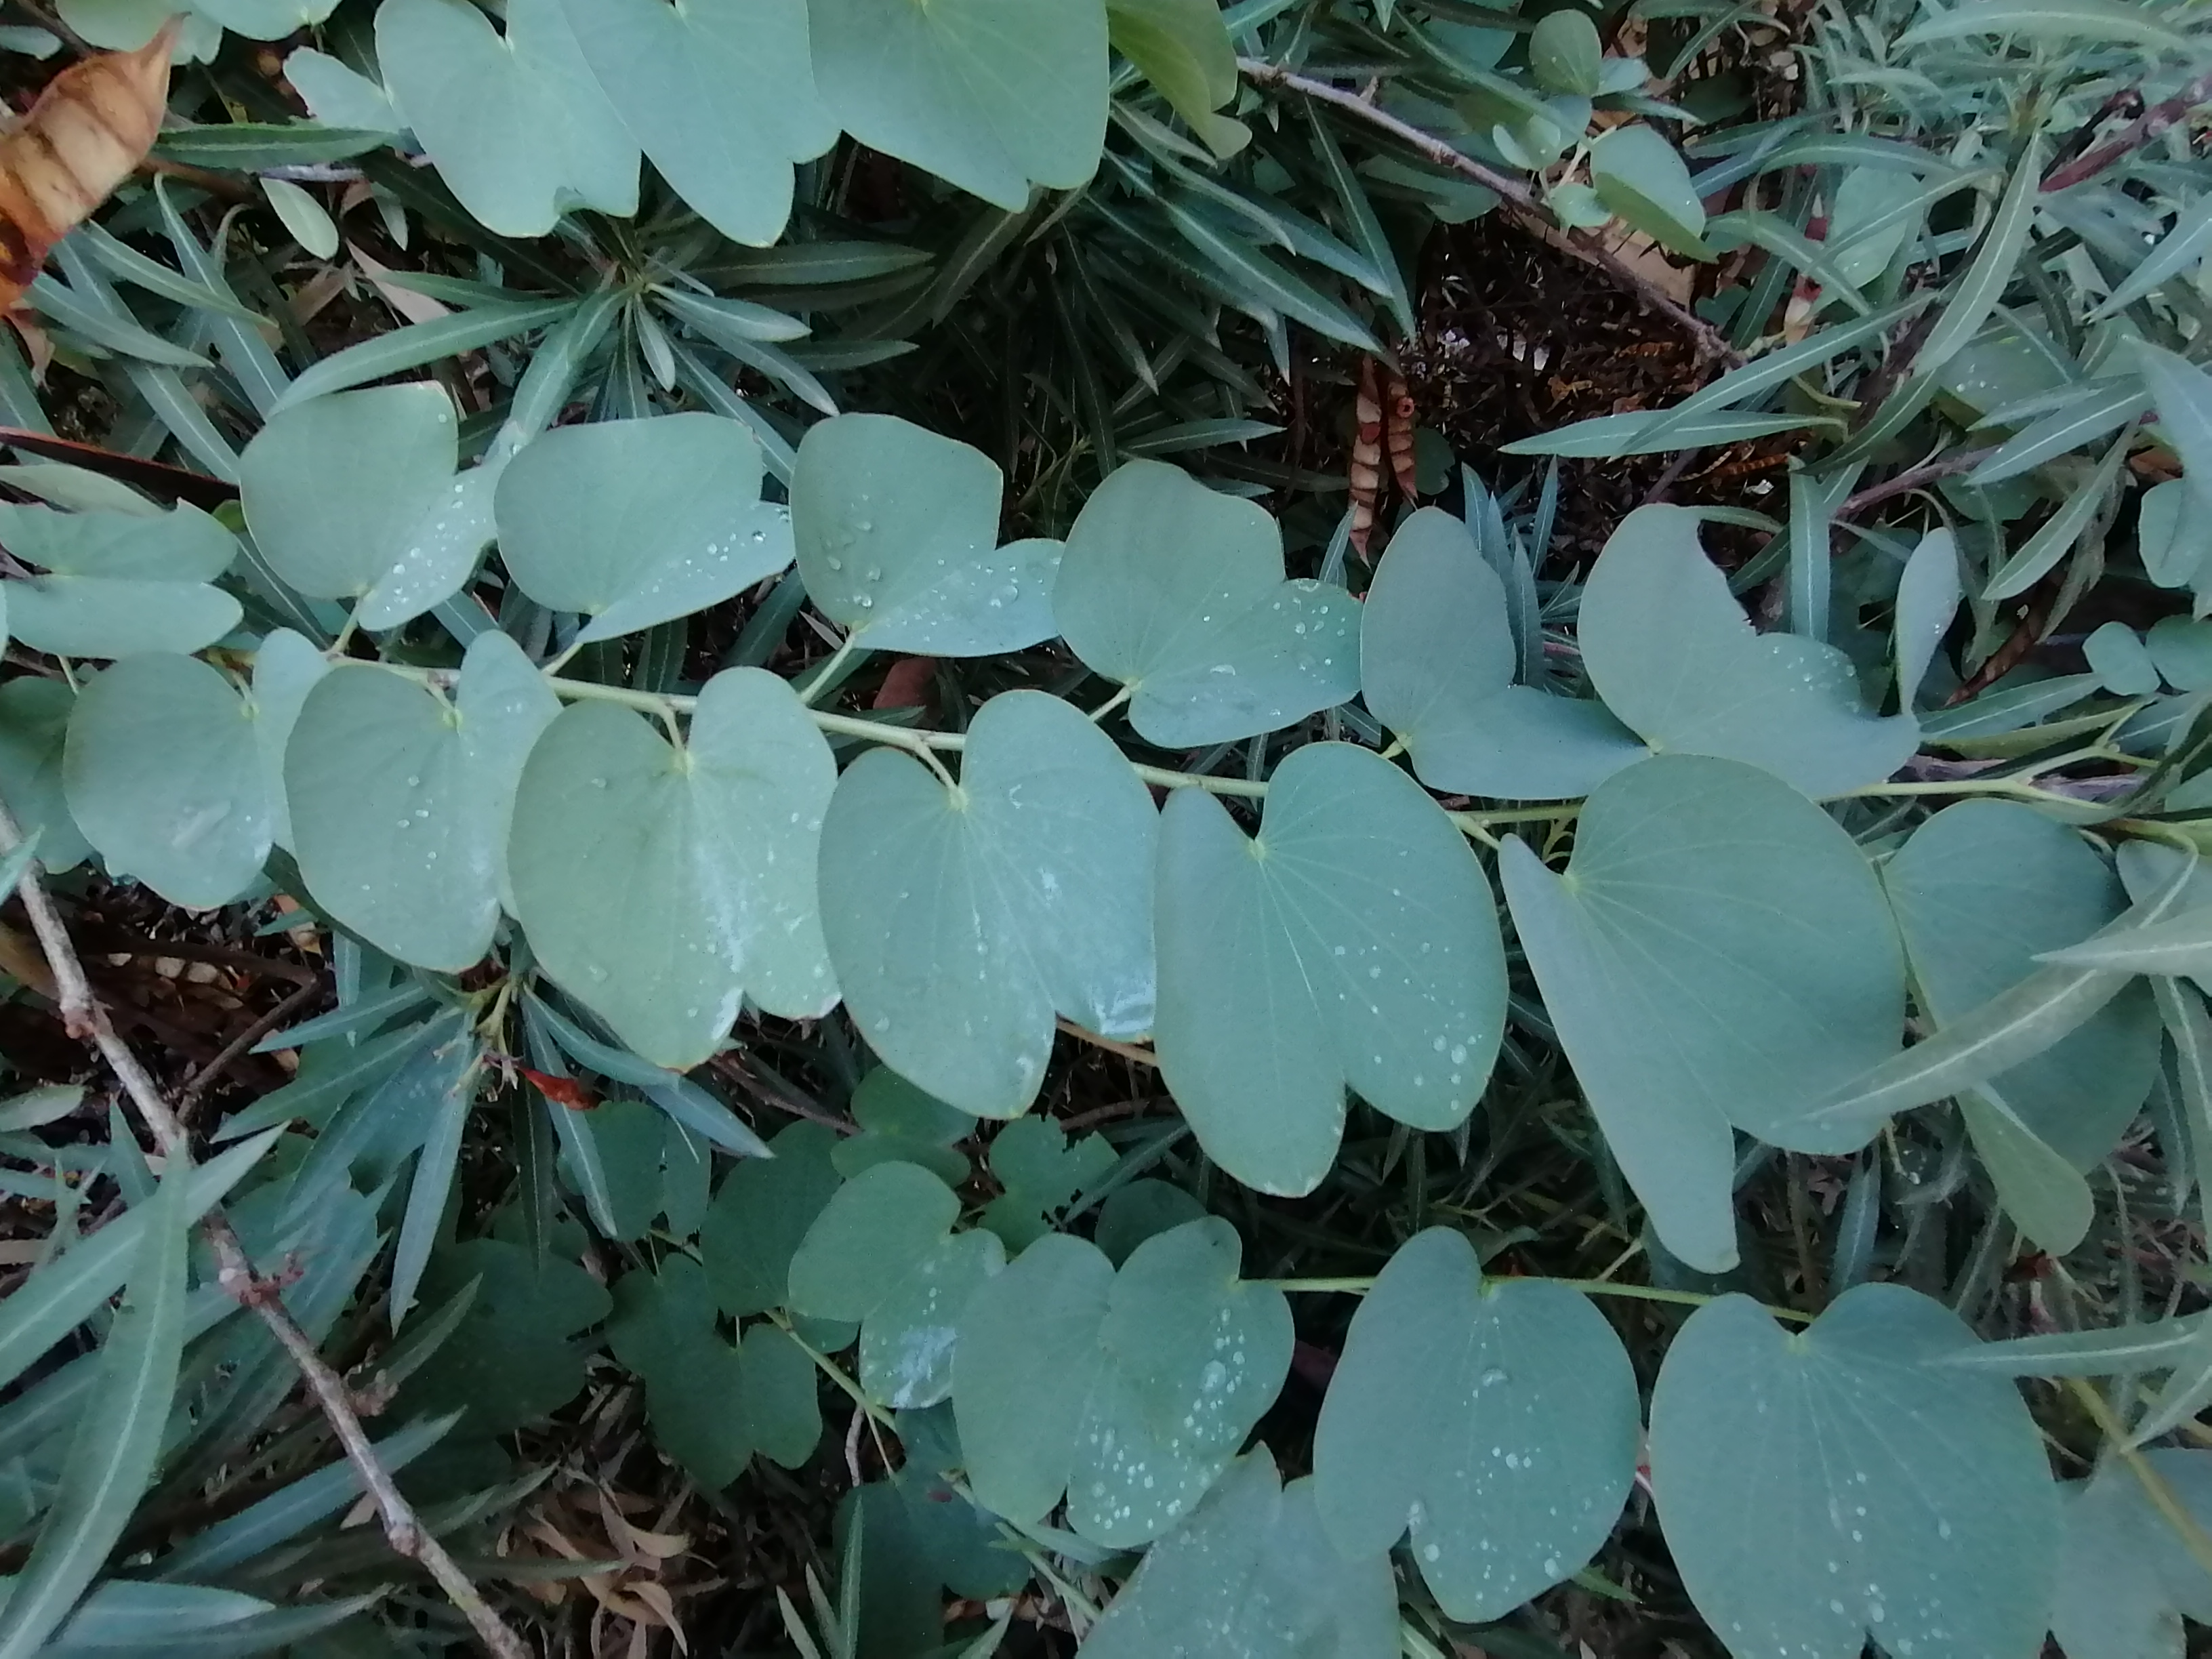healthy: (1137, 746, 1472, 1201), (1649, 1283, 2034, 1659), (500, 669, 848, 1061), (934, 1229, 1289, 1570), (1298, 1251, 1618, 1586), (859, 725, 1127, 1098), (287, 664, 604, 964), (242, 383, 559, 612), (775, 430, 1087, 660), (1036, 532, 1355, 755)
